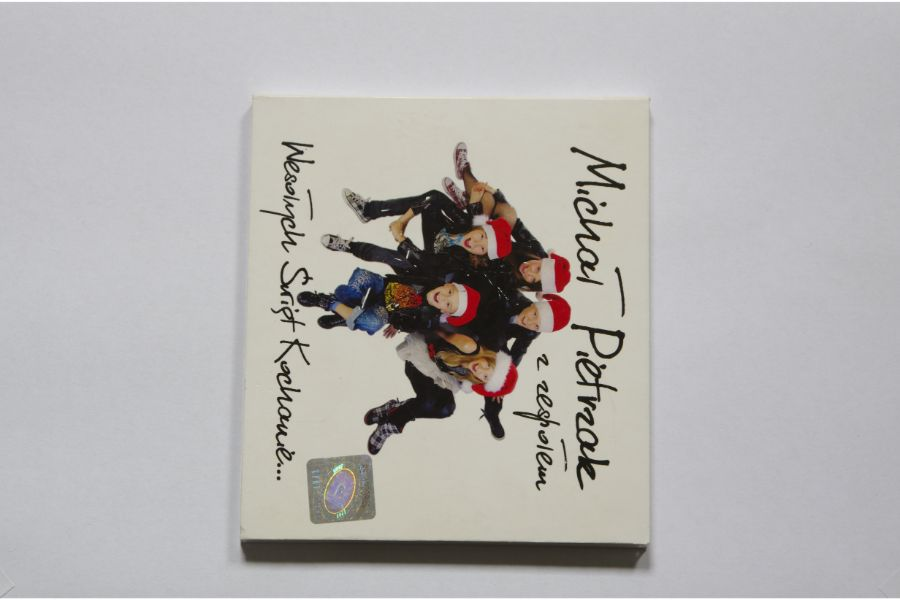album: (238, 92, 650, 548)
